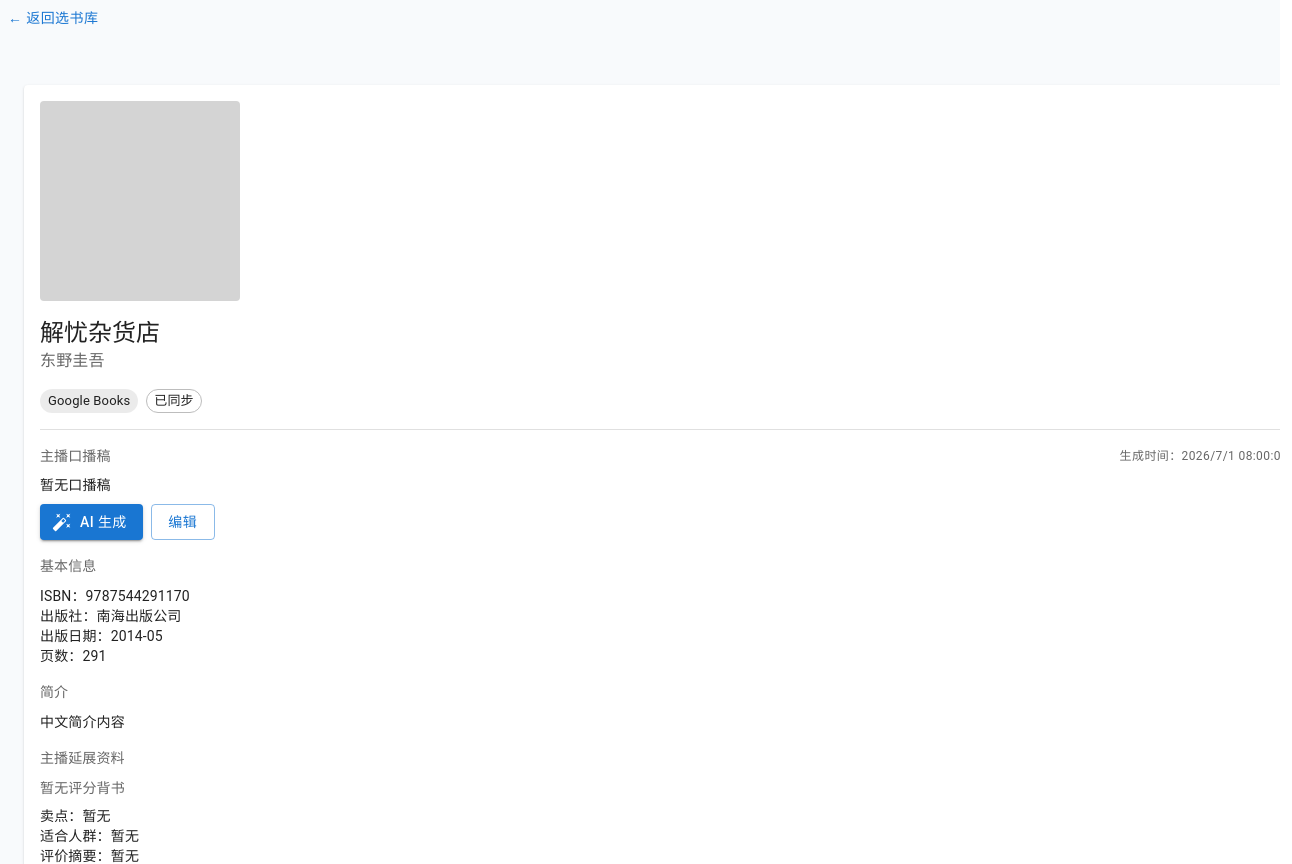
Test: BookDetail › generates live pitch on button click
This screenshot has width=1292, height=864.
Click the button "AI 生成" at (91, 522), box [40, 504, 143, 540]
(page scrolled)
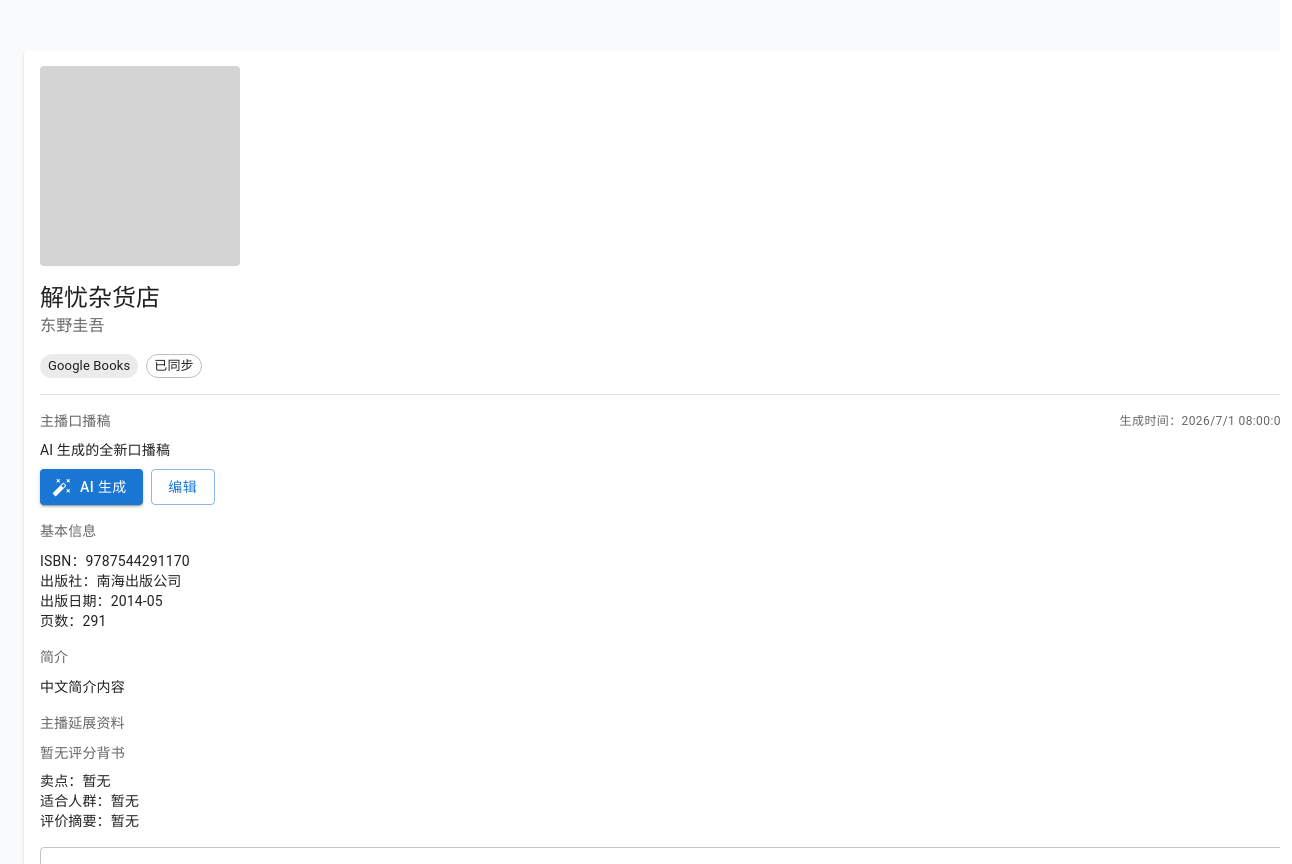
Check: the text "AI 生成的全新口播稿" is shown, box [40, 442, 170, 458]
